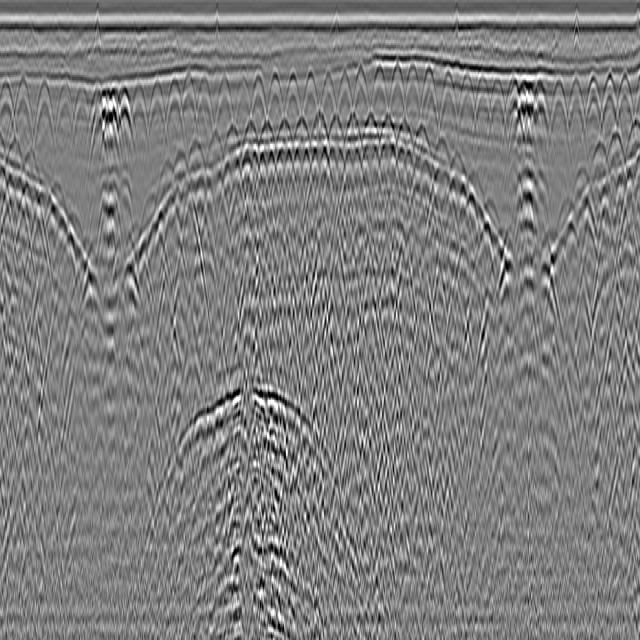hyperbola: (563, 76, 592, 170), (546, 82, 573, 165), (51, 81, 78, 163), (127, 81, 154, 162), (484, 75, 512, 153), (579, 72, 605, 154), (11, 74, 37, 155), (143, 79, 169, 155), (31, 83, 58, 154), (455, 71, 480, 147), (435, 63, 458, 141), (162, 76, 188, 143), (598, 67, 623, 136), (470, 76, 495, 144), (176, 69, 201, 136), (417, 65, 441, 133), (68, 84, 92, 150), (569, 165, 595, 217), (613, 67, 634, 130), (231, 77, 254, 134), (264, 71, 284, 135), (192, 74, 214, 130), (388, 65, 408, 125), (282, 64, 302, 123), (375, 113, 399, 162), (301, 64, 321, 122), (402, 65, 423, 120), (589, 136, 612, 185), (555, 196, 578, 243), (336, 66, 354, 126), (213, 75, 234, 126), (318, 68, 338, 121), (604, 128, 627, 174), (154, 158, 175, 208), (360, 111, 381, 160), (84, 87, 102, 144), (350, 62, 371, 110), (248, 74, 268, 124), (343, 110, 364, 155), (0, 81, 17, 135), (370, 63, 388, 112), (413, 122, 432, 166), (624, 115, 640, 166), (185, 138, 204, 180), (395, 120, 415, 158), (206, 129, 223, 167), (170, 151, 189, 185), (223, 122, 241, 156), (242, 117, 259, 147), (293, 114, 310, 144), (311, 108, 328, 138), (327, 112, 344, 141), (275, 116, 293, 142), (259, 116, 275, 145)
